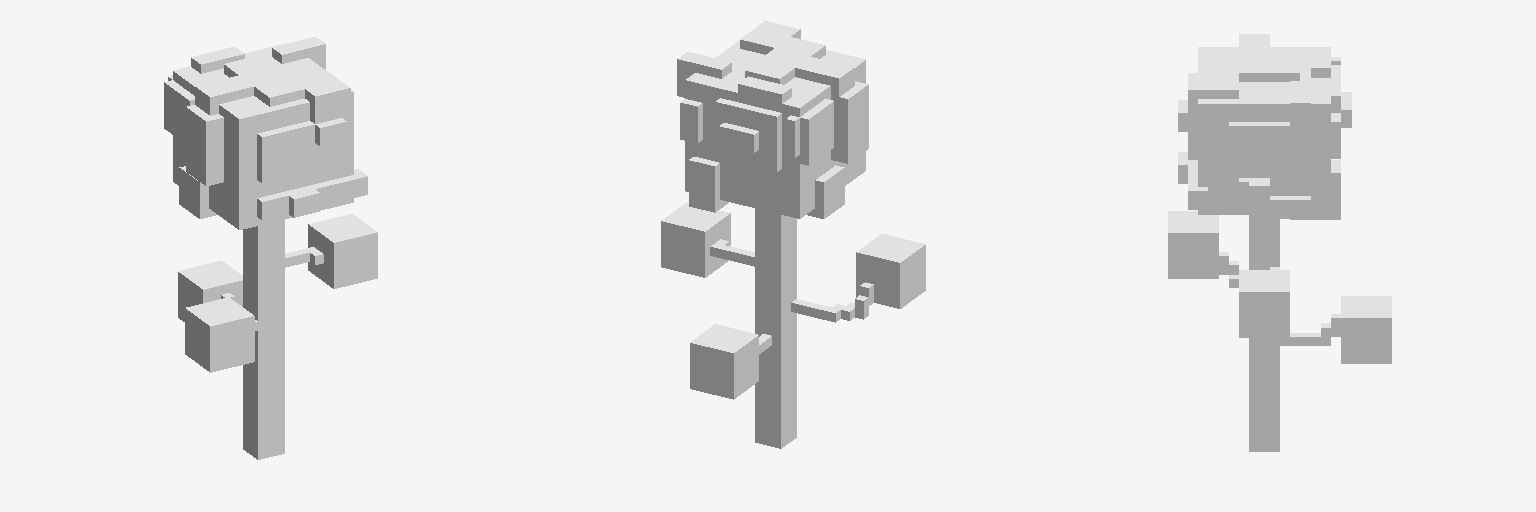
Rendered from TestGame-0.obj.
The picture shows the model from 3 angles: view 1: azimuth 30°, elevation 25°; view 2: azimuth 150°, elevation 25°; view 3: azimuth 270°, elevation 25°; orthographic projection.
Parts seen in each view (by area): view 1: object 1; view 2: object 1; view 3: object 1.
Boxes of the visible parts, x1=… form: object 1: x1=164, y1=37, x2=377, y2=459; object 1: x1=661, y1=21, x2=925, y2=448; object 1: x1=1168, y1=34, x2=1391, y2=451.
Size of the model in its own units: 2.3 by 4.1 by 2.2.